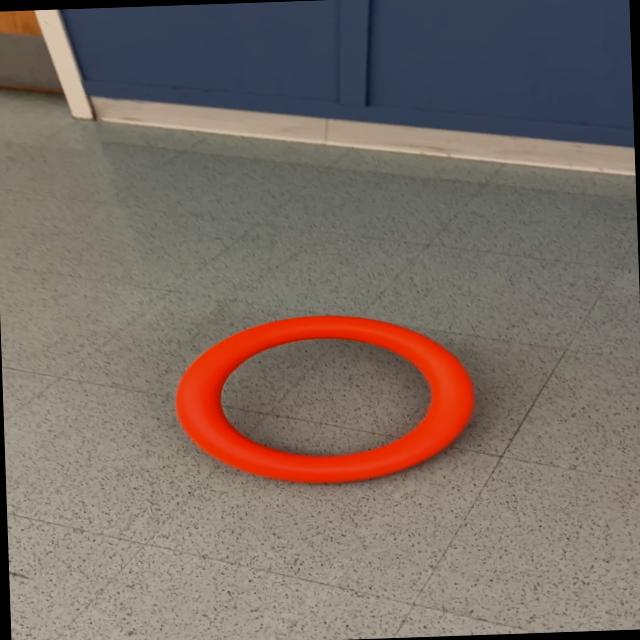note: (170, 308, 480, 490)
